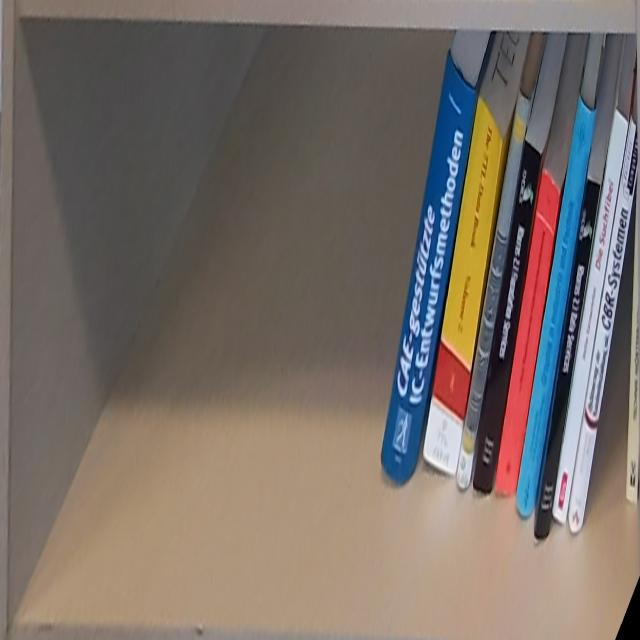Book Spine: (380, 47, 479, 487), (516, 93, 596, 522), (554, 102, 631, 530), (455, 85, 533, 493), (566, 122, 640, 534), (422, 94, 499, 481), (534, 179, 600, 541), (474, 141, 541, 495), (496, 165, 563, 495), (624, 197, 640, 504)
